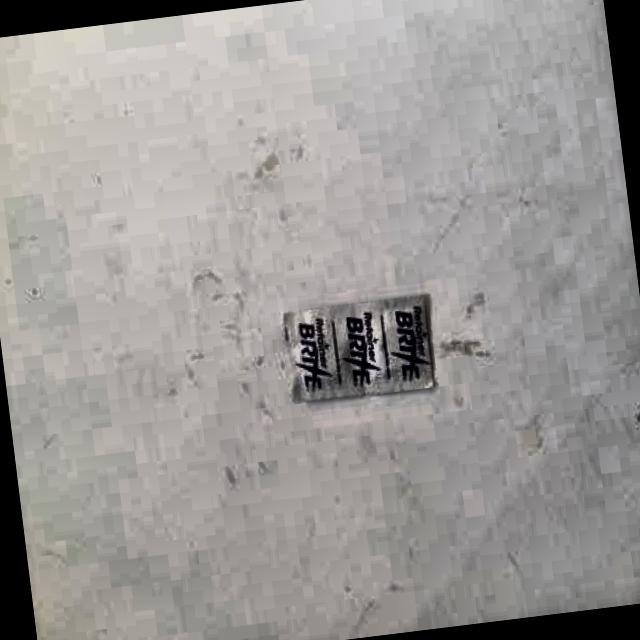trash: (276, 287, 439, 412)
